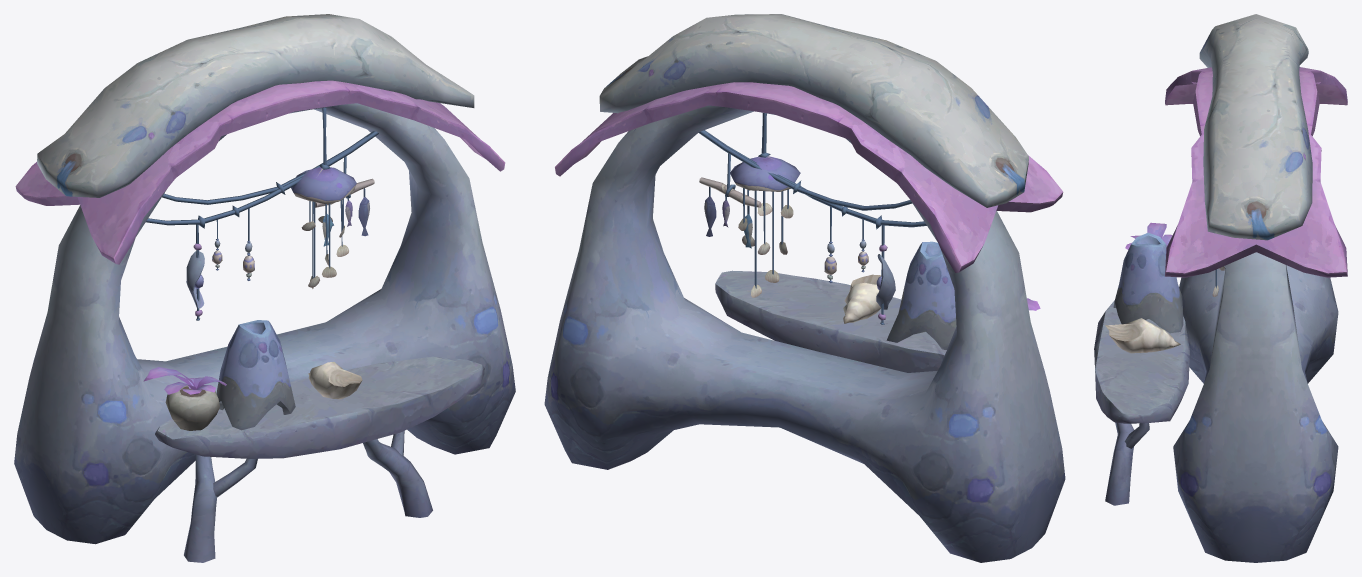
The model's file is Homeworld_Exterior_Fd_Decoration_Prop_RycPengzi_01_Lod0.fbx.
3 renders of one model, left to right at view 1: azimuth 30°, elevation 25°; view 2: azimuth 150°, elevation 25°; view 3: azimuth 270°, elevation 25°, orthographic. The views are drawn at different scales.
Visible parts, largest first — view 1: Area_Fd_Prop_RYC_Rypengzi_03_Lod0, Area_Fd_Prop_RYC_Rydiaoshi_01_Vo, Area_Fd_Prop_RYC_Rywujian_05_Vo; view 2: Area_Fd_Prop_RYC_Rypengzi_03_Lod0, Area_Fd_Prop_RYC_Rydiaoshi_01_Vo; view 3: Area_Fd_Prop_RYC_Rypengzi_03_Lod0, Area_Fd_Prop_RYC_Rywujian_05_Vo.
Boxes of the visible parts, x1,y1,x2,y2 form: Area_Fd_Prop_RYC_Rypengzi_03_Lod0: (14, 14, 515, 562); Area_Fd_Prop_RYC_Rydiaoshi_01_Vo: (291, 107, 356, 288); Area_Fd_Prop_RYC_Rywujian_05_Vo: (143, 367, 226, 430); Area_Fd_Prop_RYC_Rypengzi_03_Lod0: (544, 14, 1065, 562); Area_Fd_Prop_RYC_Rydiaoshi_01_Vo: (730, 113, 800, 297); Area_Fd_Prop_RYC_Rypengzi_03_Lod0: (1094, 14, 1347, 562); Area_Fd_Prop_RYC_Rywujian_05_Vo: (1125, 222, 1172, 249).
Size of the model in its own units: 4.4 by 4.12 by 2.3.
